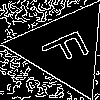F: (39, 23, 100, 71)
